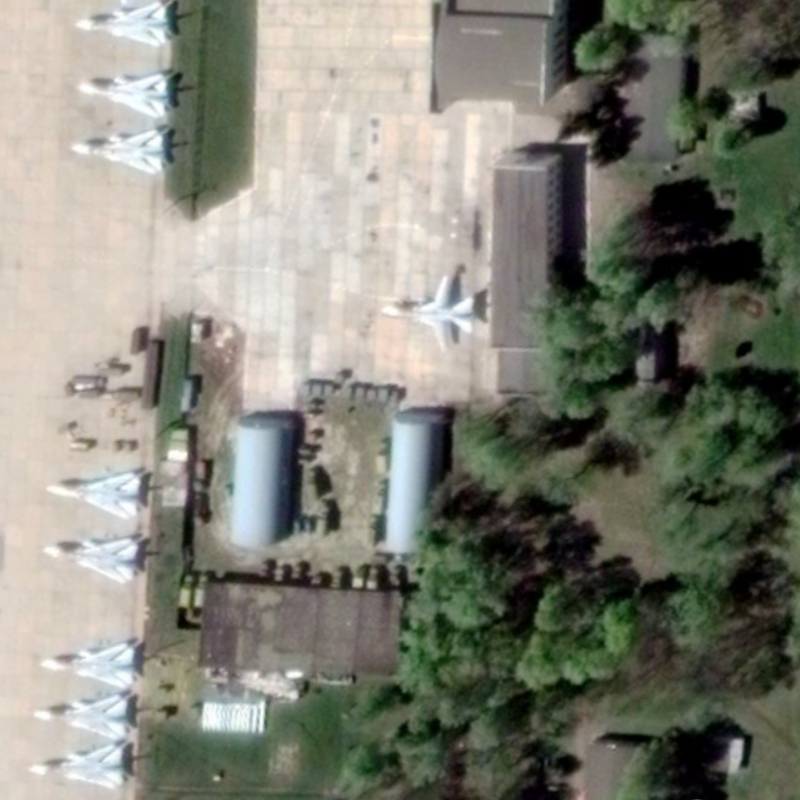A20: (379, 274, 475, 352), (45, 470, 143, 522), (41, 535, 140, 585), (32, 692, 129, 743), (39, 641, 137, 691), (69, 127, 165, 177), (74, 1, 171, 49), (28, 743, 126, 790), (76, 73, 171, 119)
